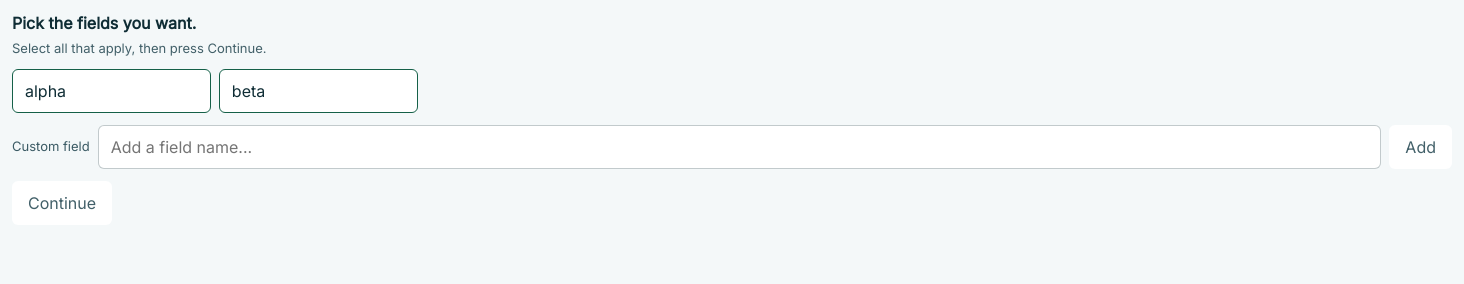
Test: MultiSelectWithCustomTurn — custom-add › typing then pressing Enter appends the trimmed value to customs
Type "  gamma  " into the field labelled "Custom field" at coordinates (740, 147), box [98, 125, 1381, 169]
Then press Enter
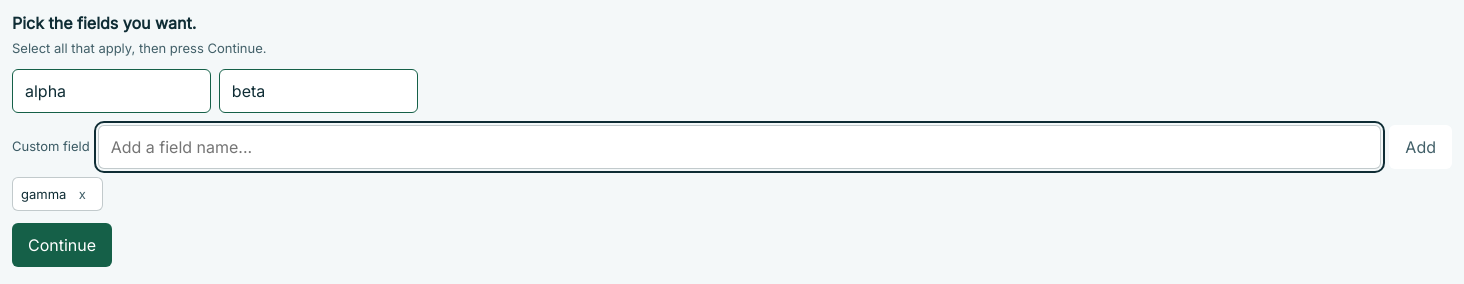
Expected: the text "gamma" is shown, [21, 188, 66, 201]
